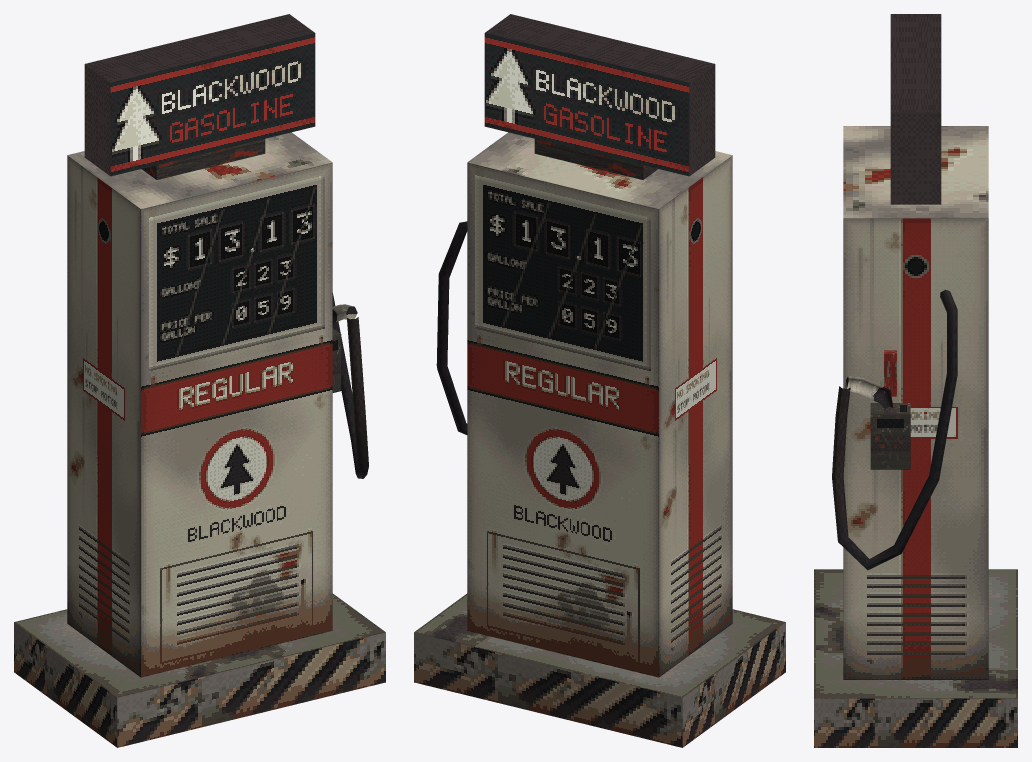
Rendered from gas_pump_retro.glb.
3 views of the same model, side by side, from view 1: azimuth 30°, elevation 25°; view 2: azimuth 150°, elevation 25°; view 3: azimuth 270°, elevation 25° (orthographic).
Visible parts, largest first — view 1: gas_pump_retro; view 2: gas_pump_retro; view 3: gas_pump_retro.
Boxes of the visible parts, x1,y1,x2,y2 form: gas_pump_retro: [14, 14, 385, 747]; gas_pump_retro: [414, 14, 785, 747]; gas_pump_retro: [814, 14, 1017, 747].
Size of the model in its own units: 0.9009 by 1.88 by 0.56.
2 materials, 2 textured.
